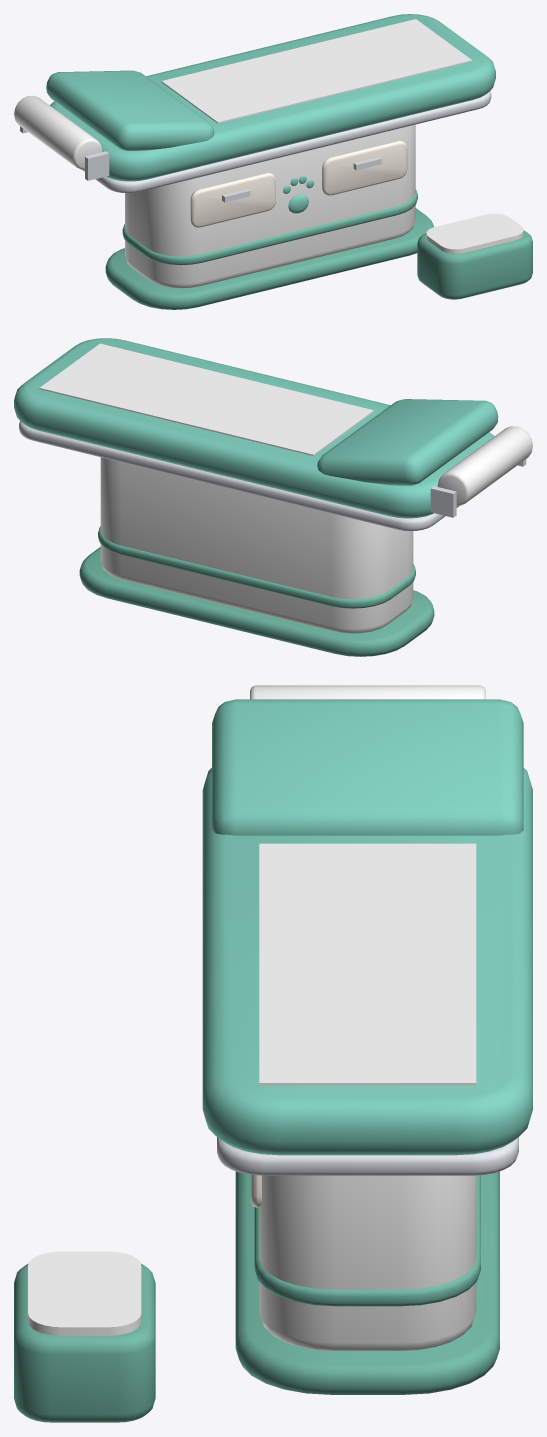
Rendered from exam_table.glb.
3 views of the same model, one above another, from view 1: azimuth 30°, elevation 25°; view 2: azimuth 150°, elevation 25°; view 3: azimuth 270°, elevation 25° (orthographic). The views are drawn at different scales.
Visible parts, largest first — view 1: exam_table; view 2: exam_table; view 3: exam_table.
Boxes of the visible parts, x1,y1,x2,y2 form: exam_table: (14,14,532,309); exam_table: (14,338,532,656); exam_table: (14,685,532,1422).
Bounding box in the file's own units: 2 × 0.9161 × 1.1.
